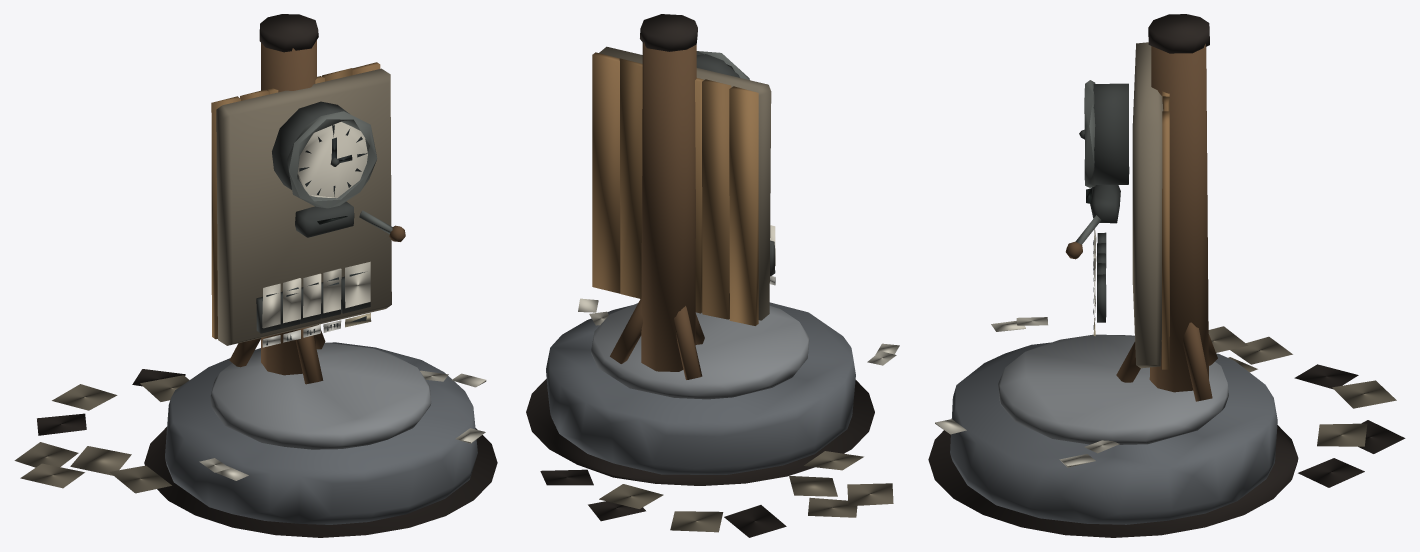
The model's file is clock_post_b_lod2.glb.
3 renders of one model, left to right at view 1: azimuth 30°, elevation 25°; view 2: azimuth 150°, elevation 25°; view 3: azimuth 270°, elevation 25°, orthographic. The views are drawn at different scales.
Parts seen in each view (by area): view 1: Surface.001; view 2: Surface.001; view 3: Surface.001.
Boxes of the visible parts, x1=… form: Surface.001: x1=14, y1=14, x2=497, y2=537; Surface.001: x1=526, y1=14, x2=899, y2=537; Surface.001: x1=928, y1=14, x2=1405, y2=537.
Bounding box in the file's own units: 2.49 × 2.47 × 2.45.
